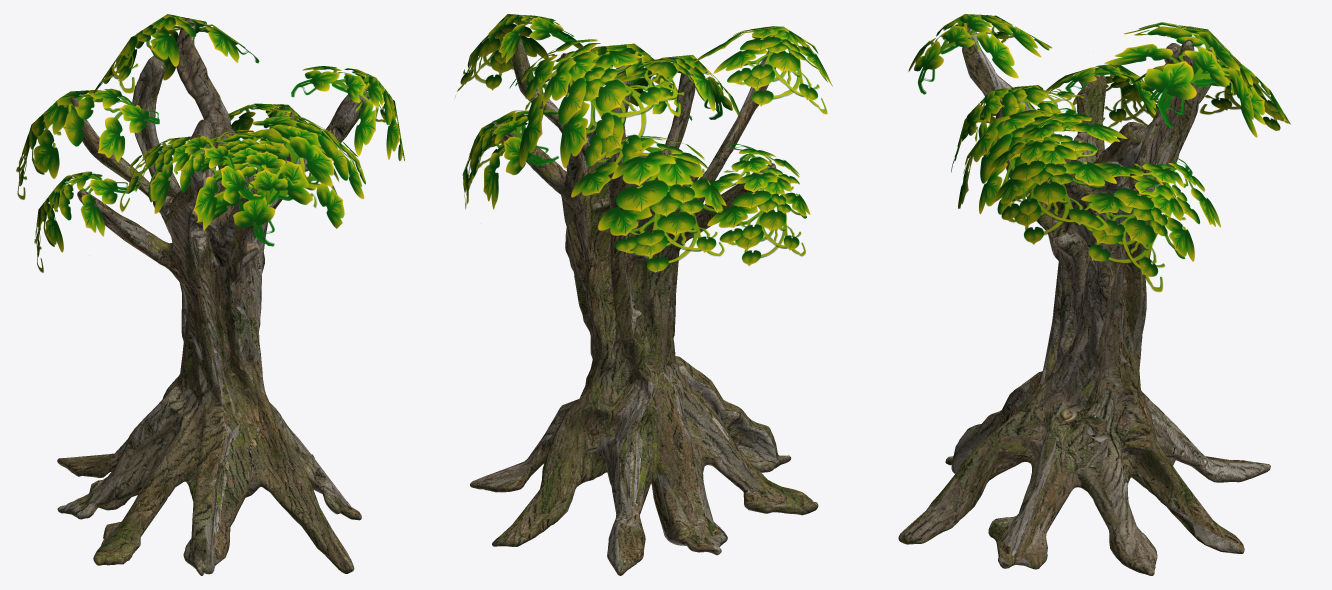
Rendered from low-poly-worldtree.glb.
3 renders of one model, left to right at view 1: azimuth 30°, elevation 25°; view 2: azimuth 150°, elevation 25°; view 3: azimuth 270°, elevation 25°, orthographic. The views are drawn at different scales.
Parts seen in each view (by area): view 1: BézierCurve.001, leaves.016, leaves.009, leaves.011, leaves.015, leaves.014, leaves.012, leaves.013, leaves.010; view 2: BézierCurve.001, leaves.009, leaves.012, leaves.013, leaves.011, leaves.014, leaves.010, leaves.015, leaves.016; view 3: BézierCurve.001, leaves.010, leaves.014, leaves.012, leaves.016, leaves.011, leaves.015, leaves.013, leaves.009.
Part boxes in pixels (x1,y1,x2,y2): BézierCurve.001: (57, 18, 369, 575); leaves.016: (218, 113, 365, 228); leaves.009: (16, 88, 159, 199); leaves.011: (120, 135, 263, 230); leaves.015: (196, 130, 315, 246); leaves.014: (291, 66, 404, 161); leaves.012: (91, 14, 259, 97); leaves.013: (34, 171, 140, 272); leaves.010: (228, 103, 339, 183); BézierCurve.001: (470, 29, 818, 575); leaves.009: (571, 135, 726, 272); leaves.012: (509, 39, 677, 168); leaves.013: (704, 143, 810, 265); leaves.011: (694, 26, 832, 114); leaves.014: (455, 14, 583, 97); leaves.010: (462, 110, 558, 209); leaves.015: (615, 55, 739, 119); leaves.016: (544, 43, 692, 120); BézierCurve.001: (898, 22, 1270, 575); leaves.010: (1081, 158, 1221, 292); leaves.014: (988, 108, 1127, 244); leaves.012: (1104, 22, 1257, 137); leaves.016: (958, 109, 1097, 214); leaves.011: (908, 14, 1051, 94); leaves.015: (951, 85, 1084, 172); leaves.013: (1046, 64, 1158, 127); leaves.009: (1124, 54, 1290, 130).
Bounding box in the file's own units: 10.09 × 13.04 × 10.49.
Materials: 2 (2 with a texture image).
